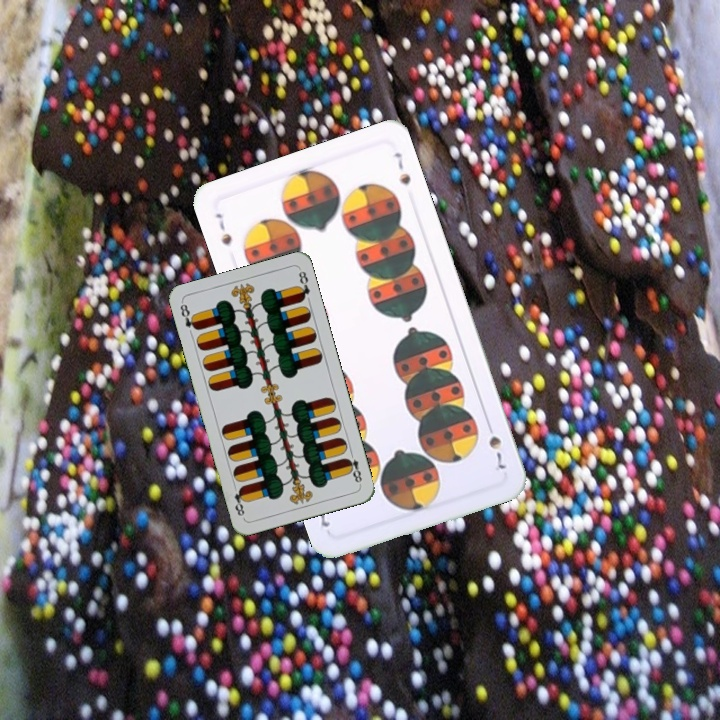E8: (342, 447, 364, 487), (176, 300, 200, 333)
S7: (482, 417, 508, 472), (211, 209, 235, 248)
